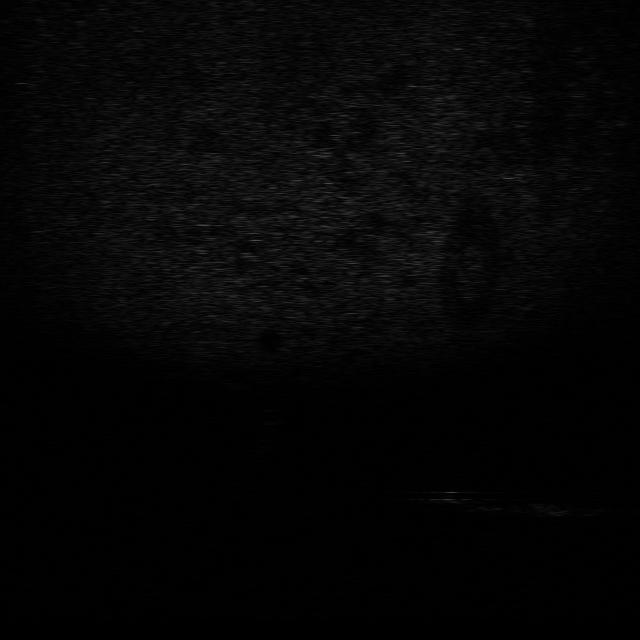ball: (252, 407, 286, 426)
metal bucket: (518, 499, 598, 520)
tyre: (440, 486, 511, 515)
